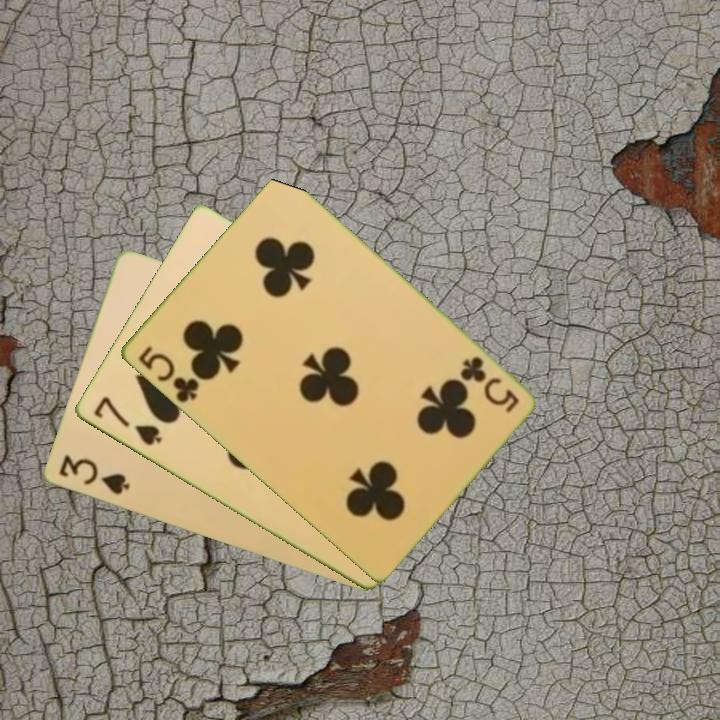3s: (55, 451, 132, 498)
5c: (134, 342, 202, 406), (456, 352, 522, 416)
7s: (89, 392, 165, 449)
